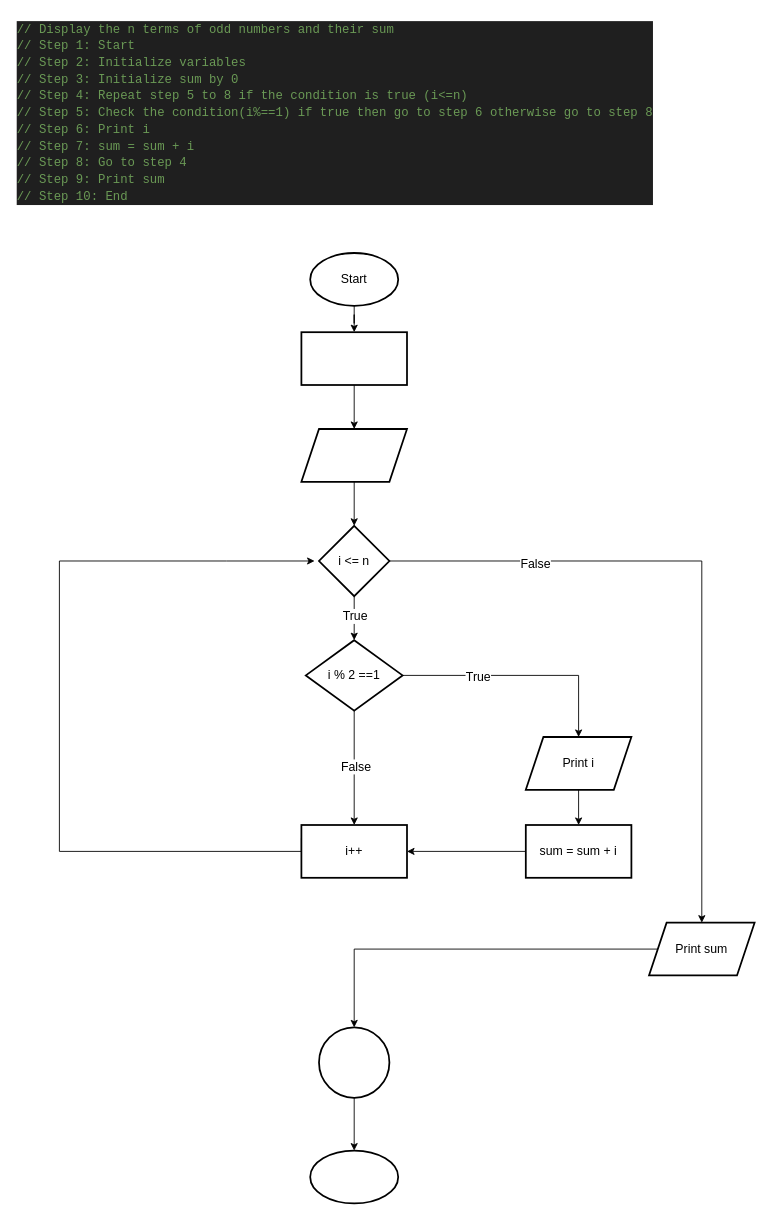
The diagram is 770 pixels wide and 1219 high, and some of its shapes have lost their labels. Each missing label, with the centre of its shape:
"End" belongs at point (354, 1176).
"Enter n" belongs at point (353, 455).
"int n, sum = 0" belongs at point (353, 358).
